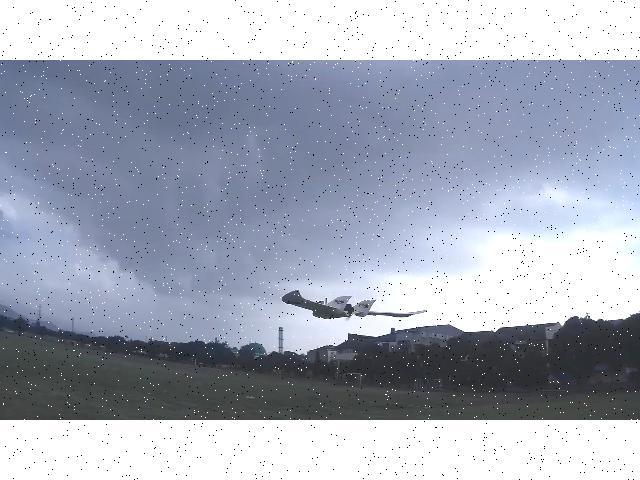Anti-Drone: (282, 290, 428, 319)
